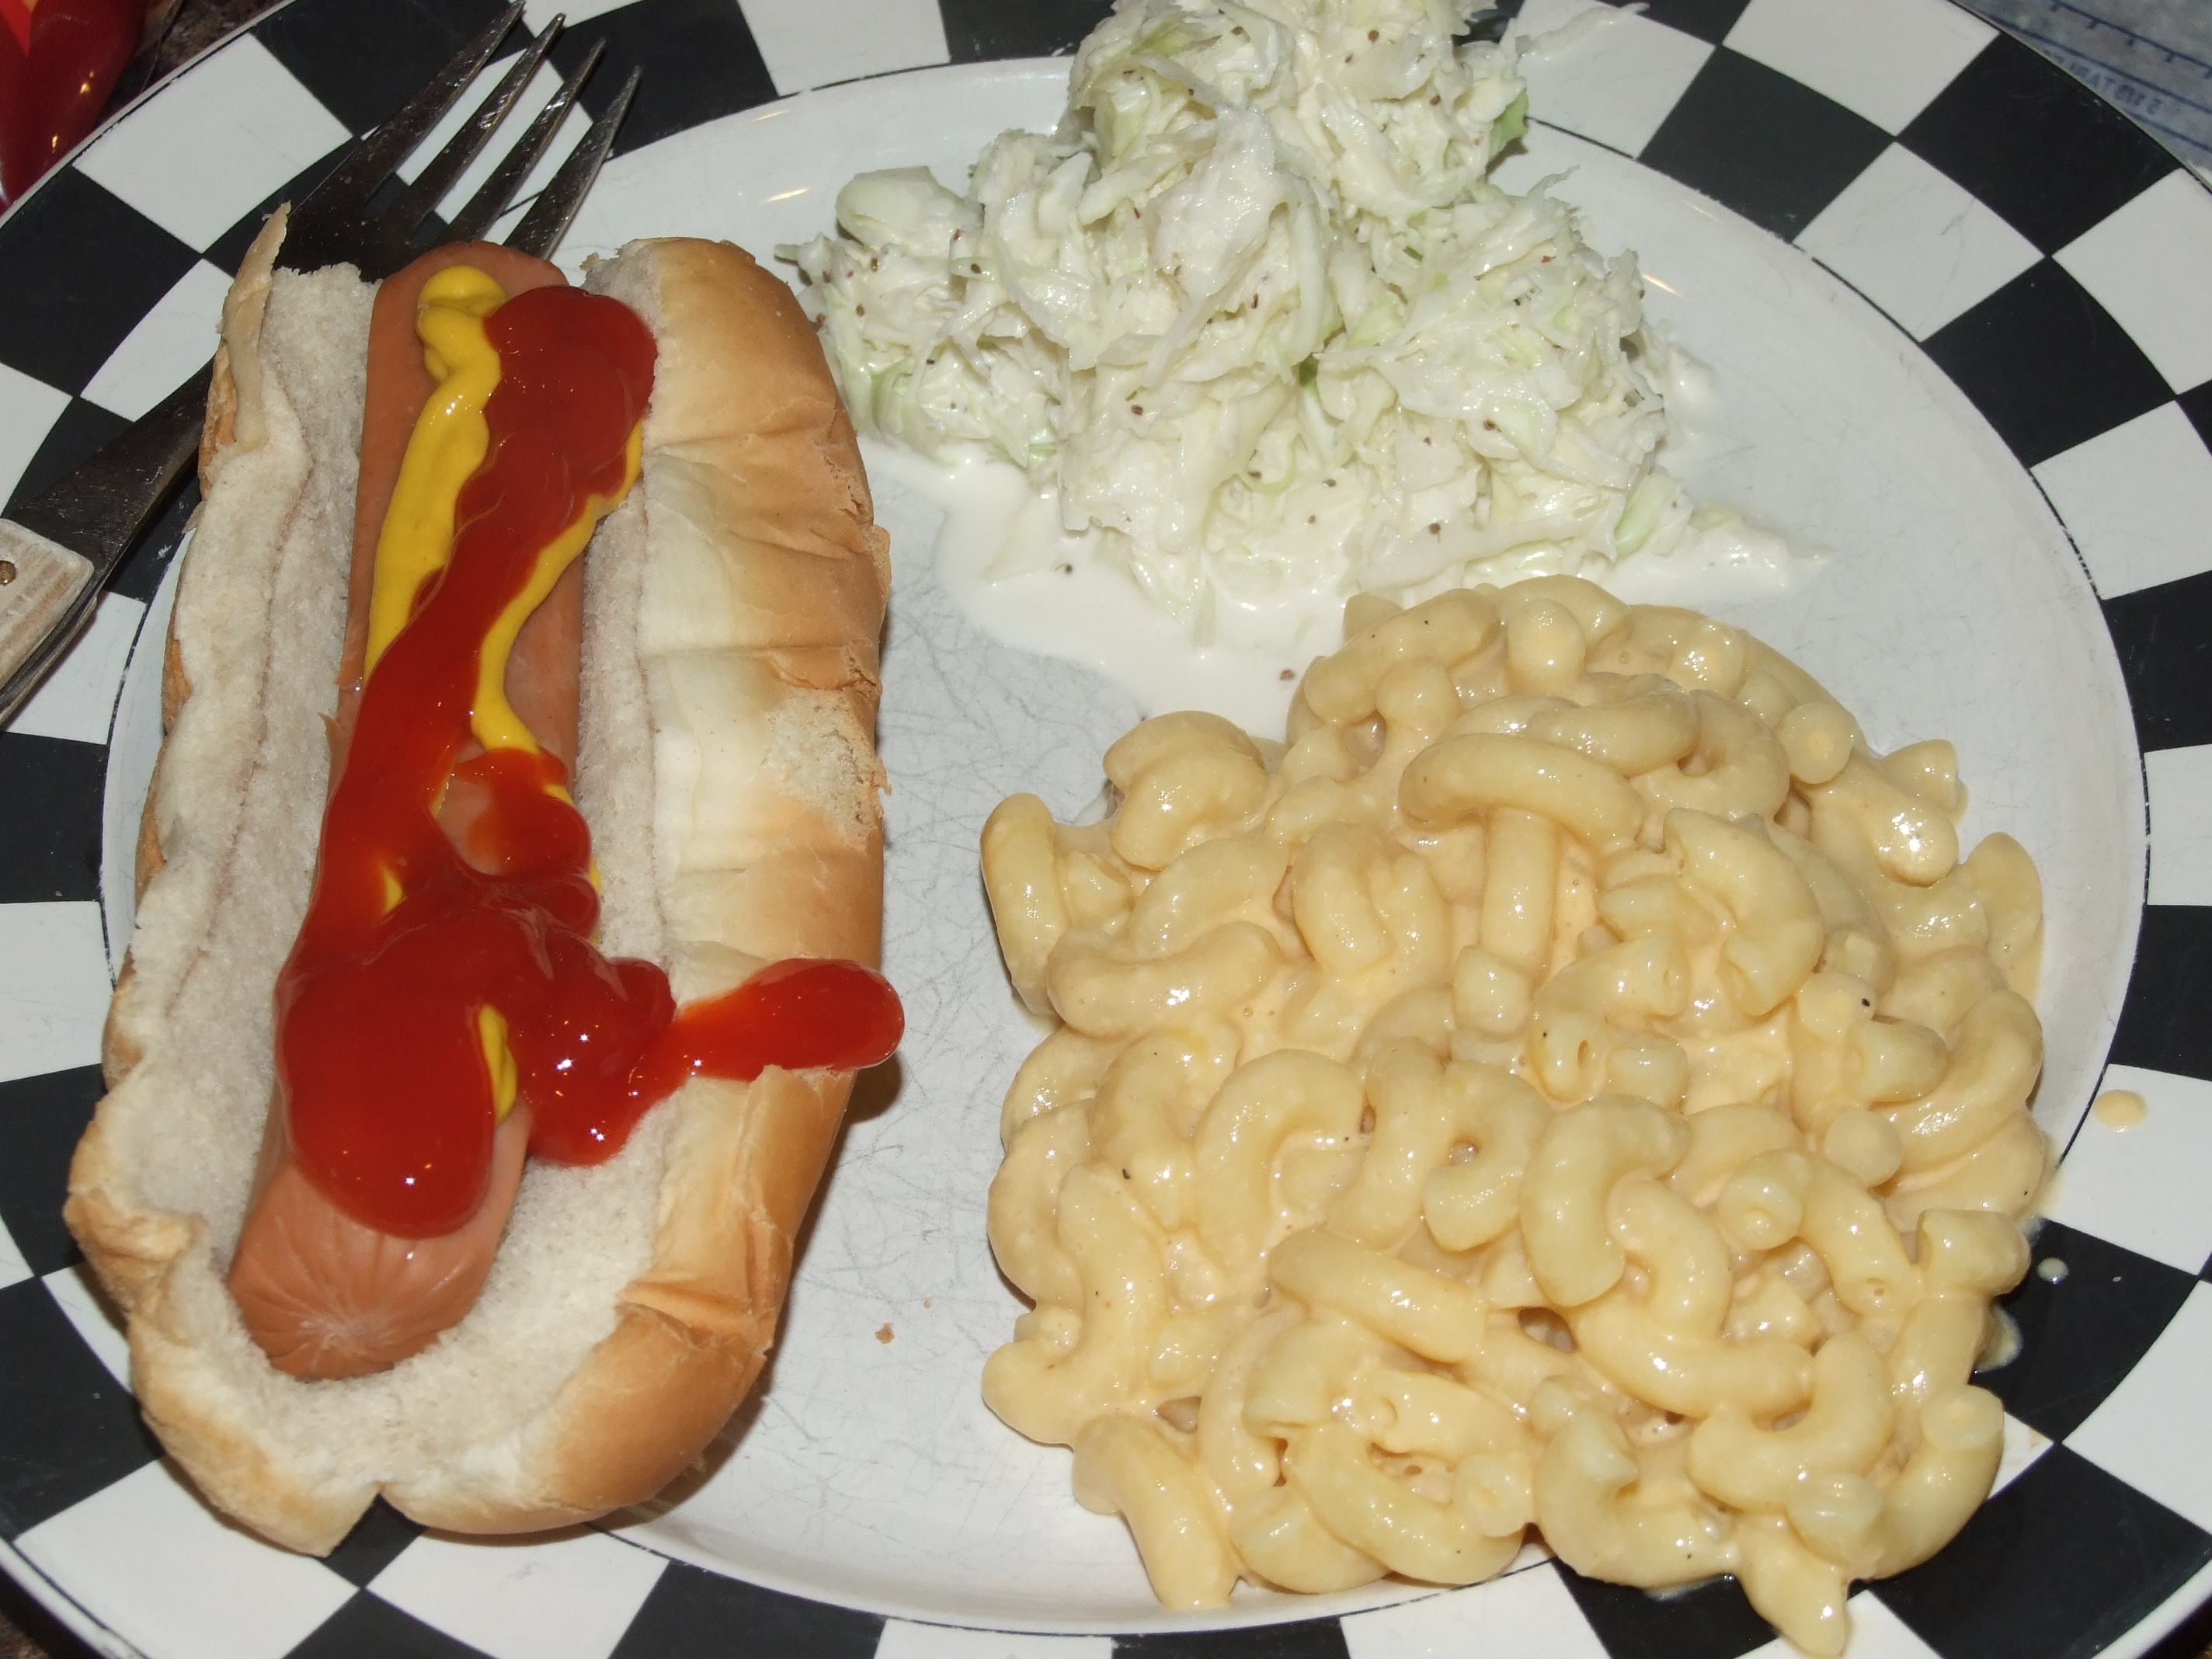macncheese: (1012, 579, 2054, 1649)
